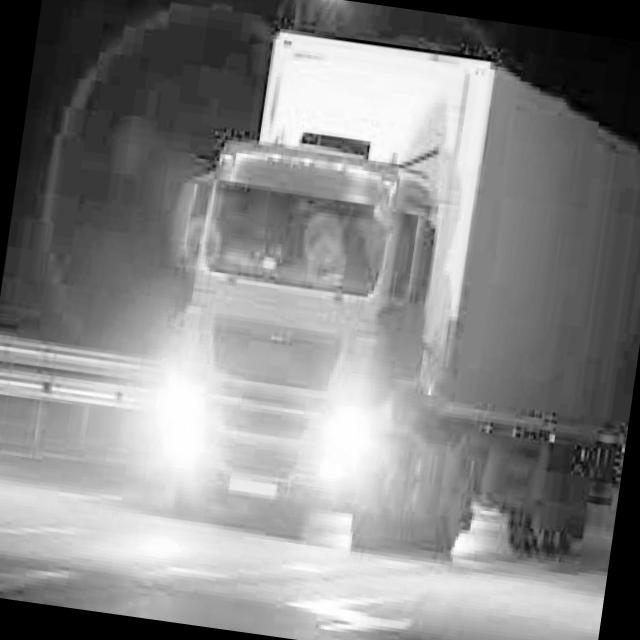Truck: (131, 14, 640, 587)
